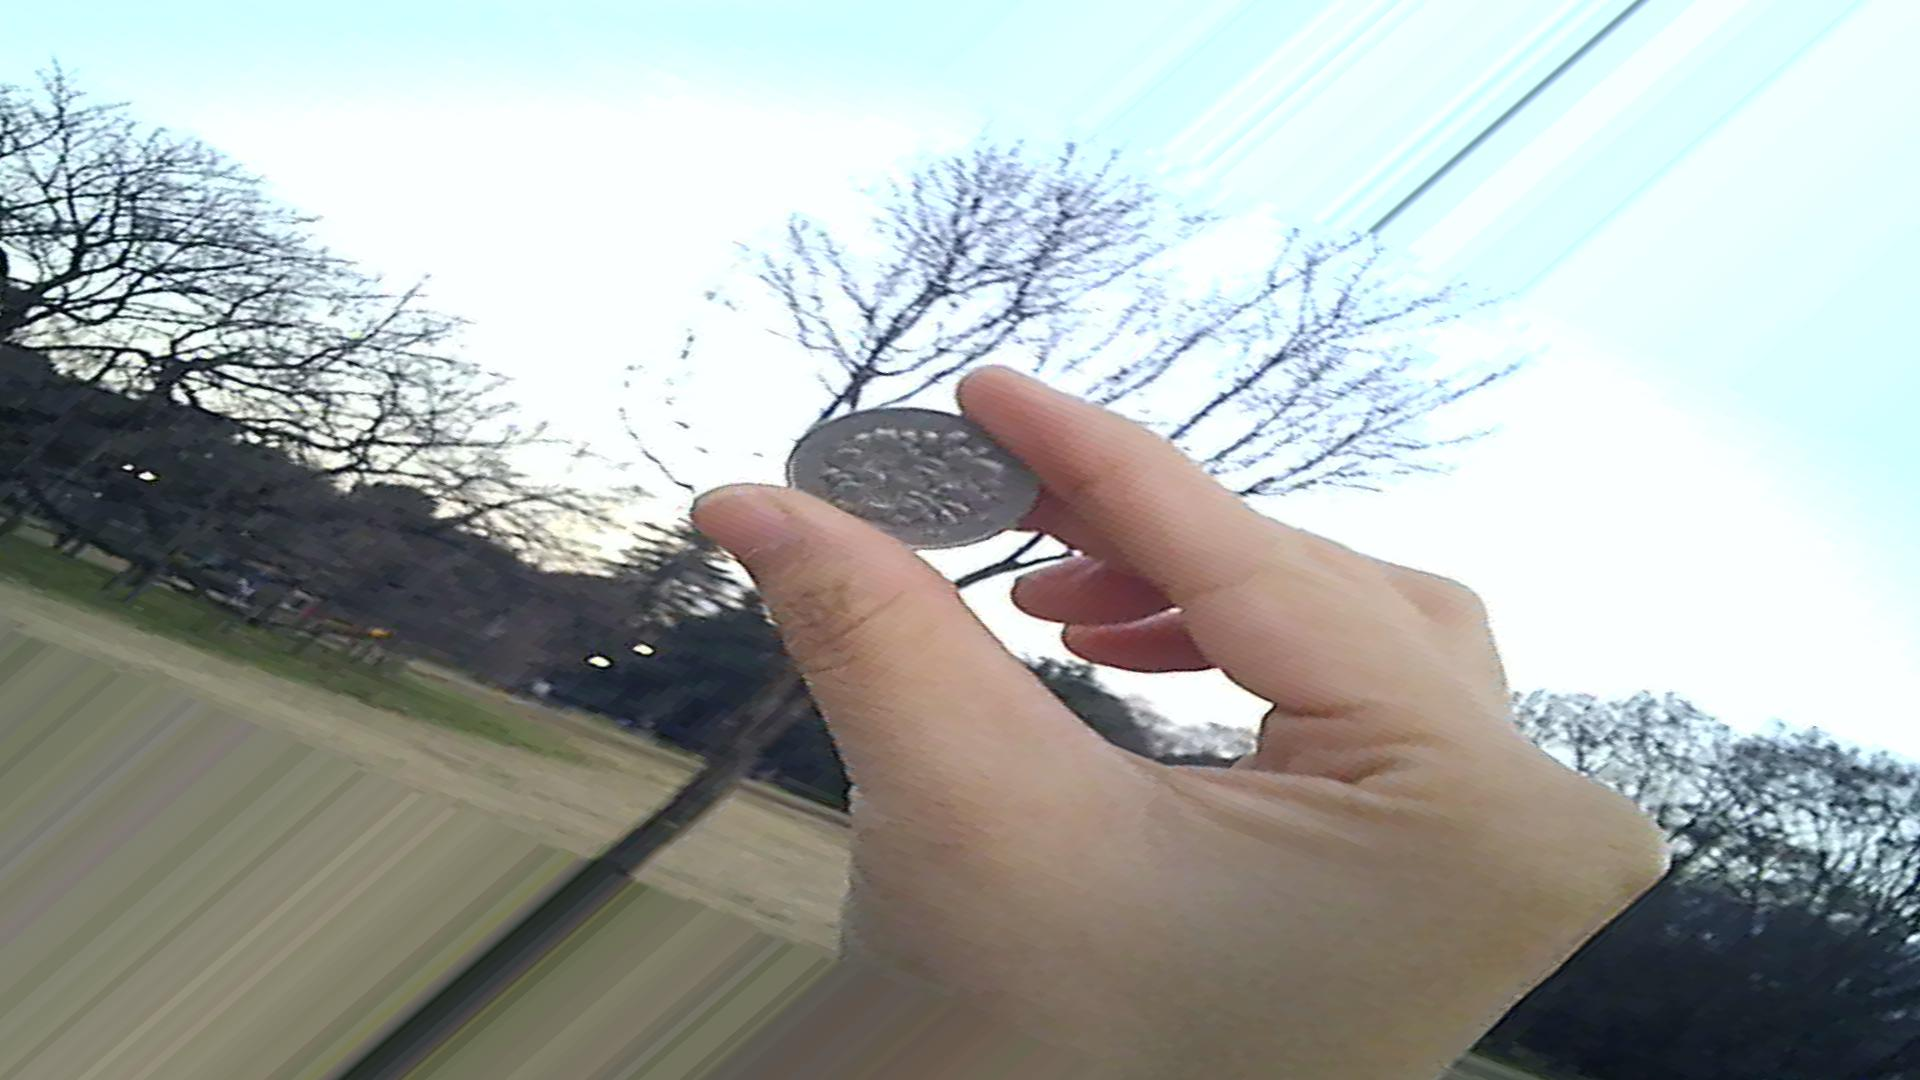100 Yen: (782, 392, 1040, 583)
